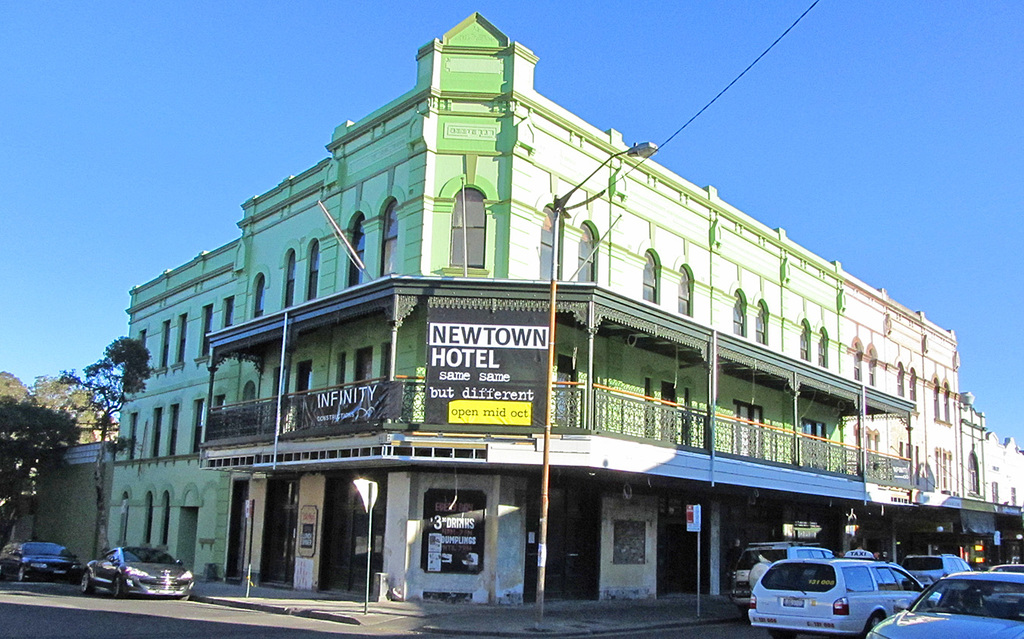Car: (740, 558, 919, 633), (863, 573, 1023, 638), (78, 545, 197, 595), (0, 531, 80, 581)
